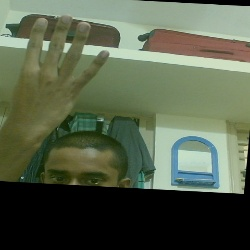hand: (21, 18, 110, 141)
